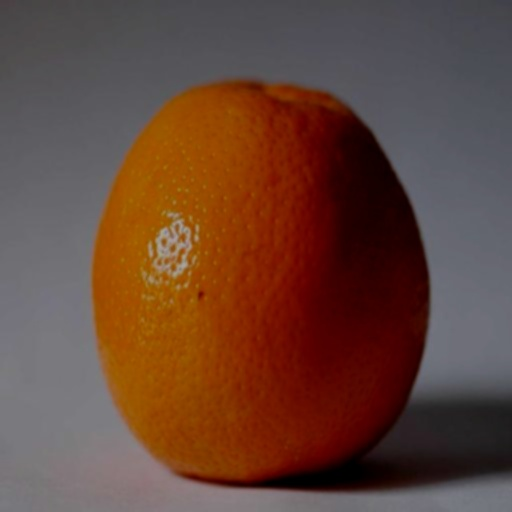fruit: (47, 155, 145, 510)
